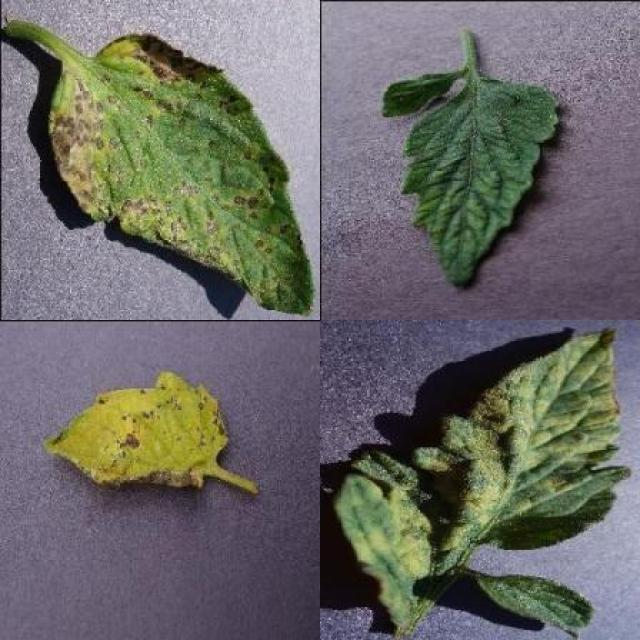Leaf Mold: (335, 325, 630, 640)
Mosaic Virus: (380, 69, 563, 290)
Septoria: (45, 34, 315, 316), (42, 366, 228, 491)
